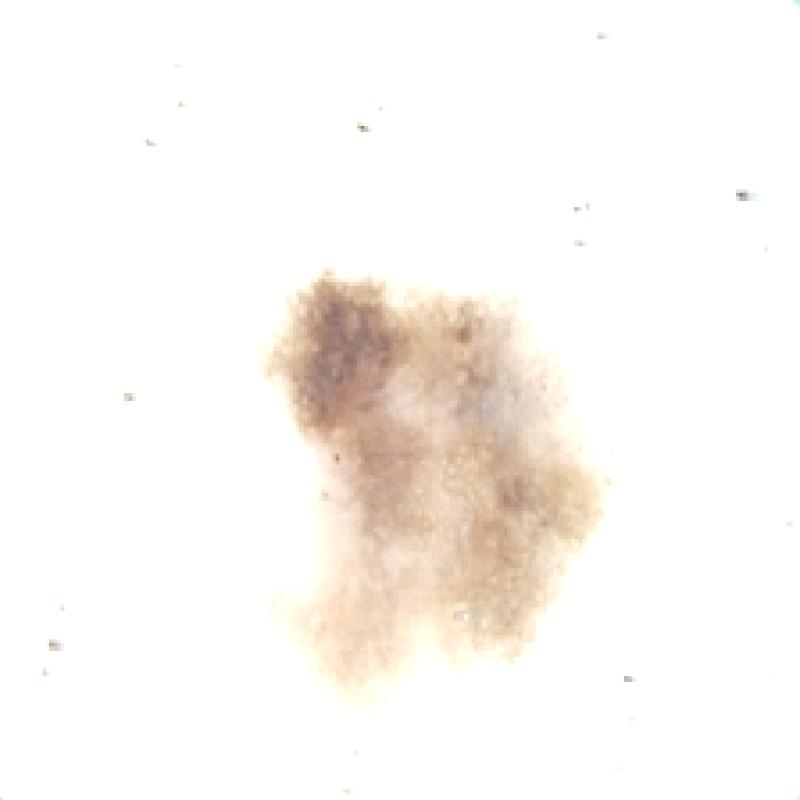malignant: (224, 250, 616, 736)
